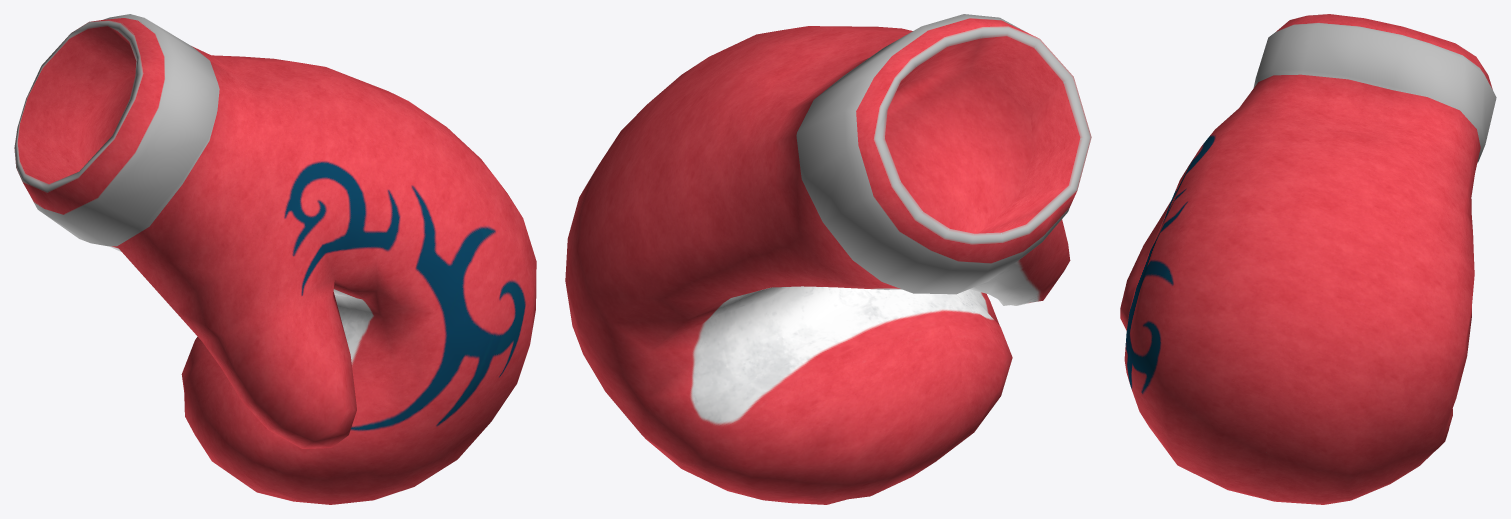
File: boxLeft.fbx
3 views of the same model, side by side, from view 1: azimuth 30°, elevation 25°; view 2: azimuth 150°, elevation 25°; view 3: azimuth 270°, elevation 25° (orthographic). The views are drawn at different scales.
Parts seen in each view (by area): view 1: boxLeft; view 2: boxLeft; view 3: boxLeft.
Part boxes in pixels (box(x1,y1,x2,y2)): boxLeft: box(14, 14, 536, 504); boxLeft: box(565, 14, 1091, 504); boxLeft: box(1120, 14, 1496, 504).
Bounding box in the file's own units: 111 × 109 × 92.49.
